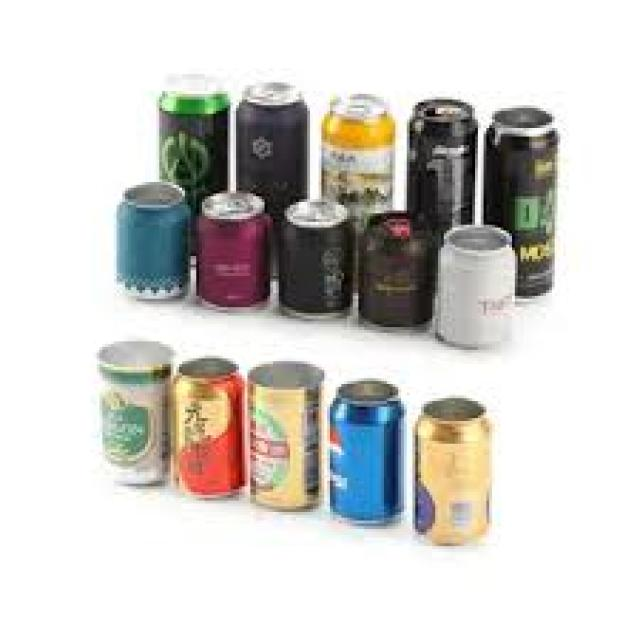Cans: (88, 330, 179, 492), (239, 356, 330, 518), (324, 375, 412, 532), (412, 393, 498, 546), (171, 352, 250, 503), (188, 185, 276, 310), (435, 219, 518, 344), (278, 194, 356, 322), (361, 210, 438, 338), (114, 176, 190, 302)
